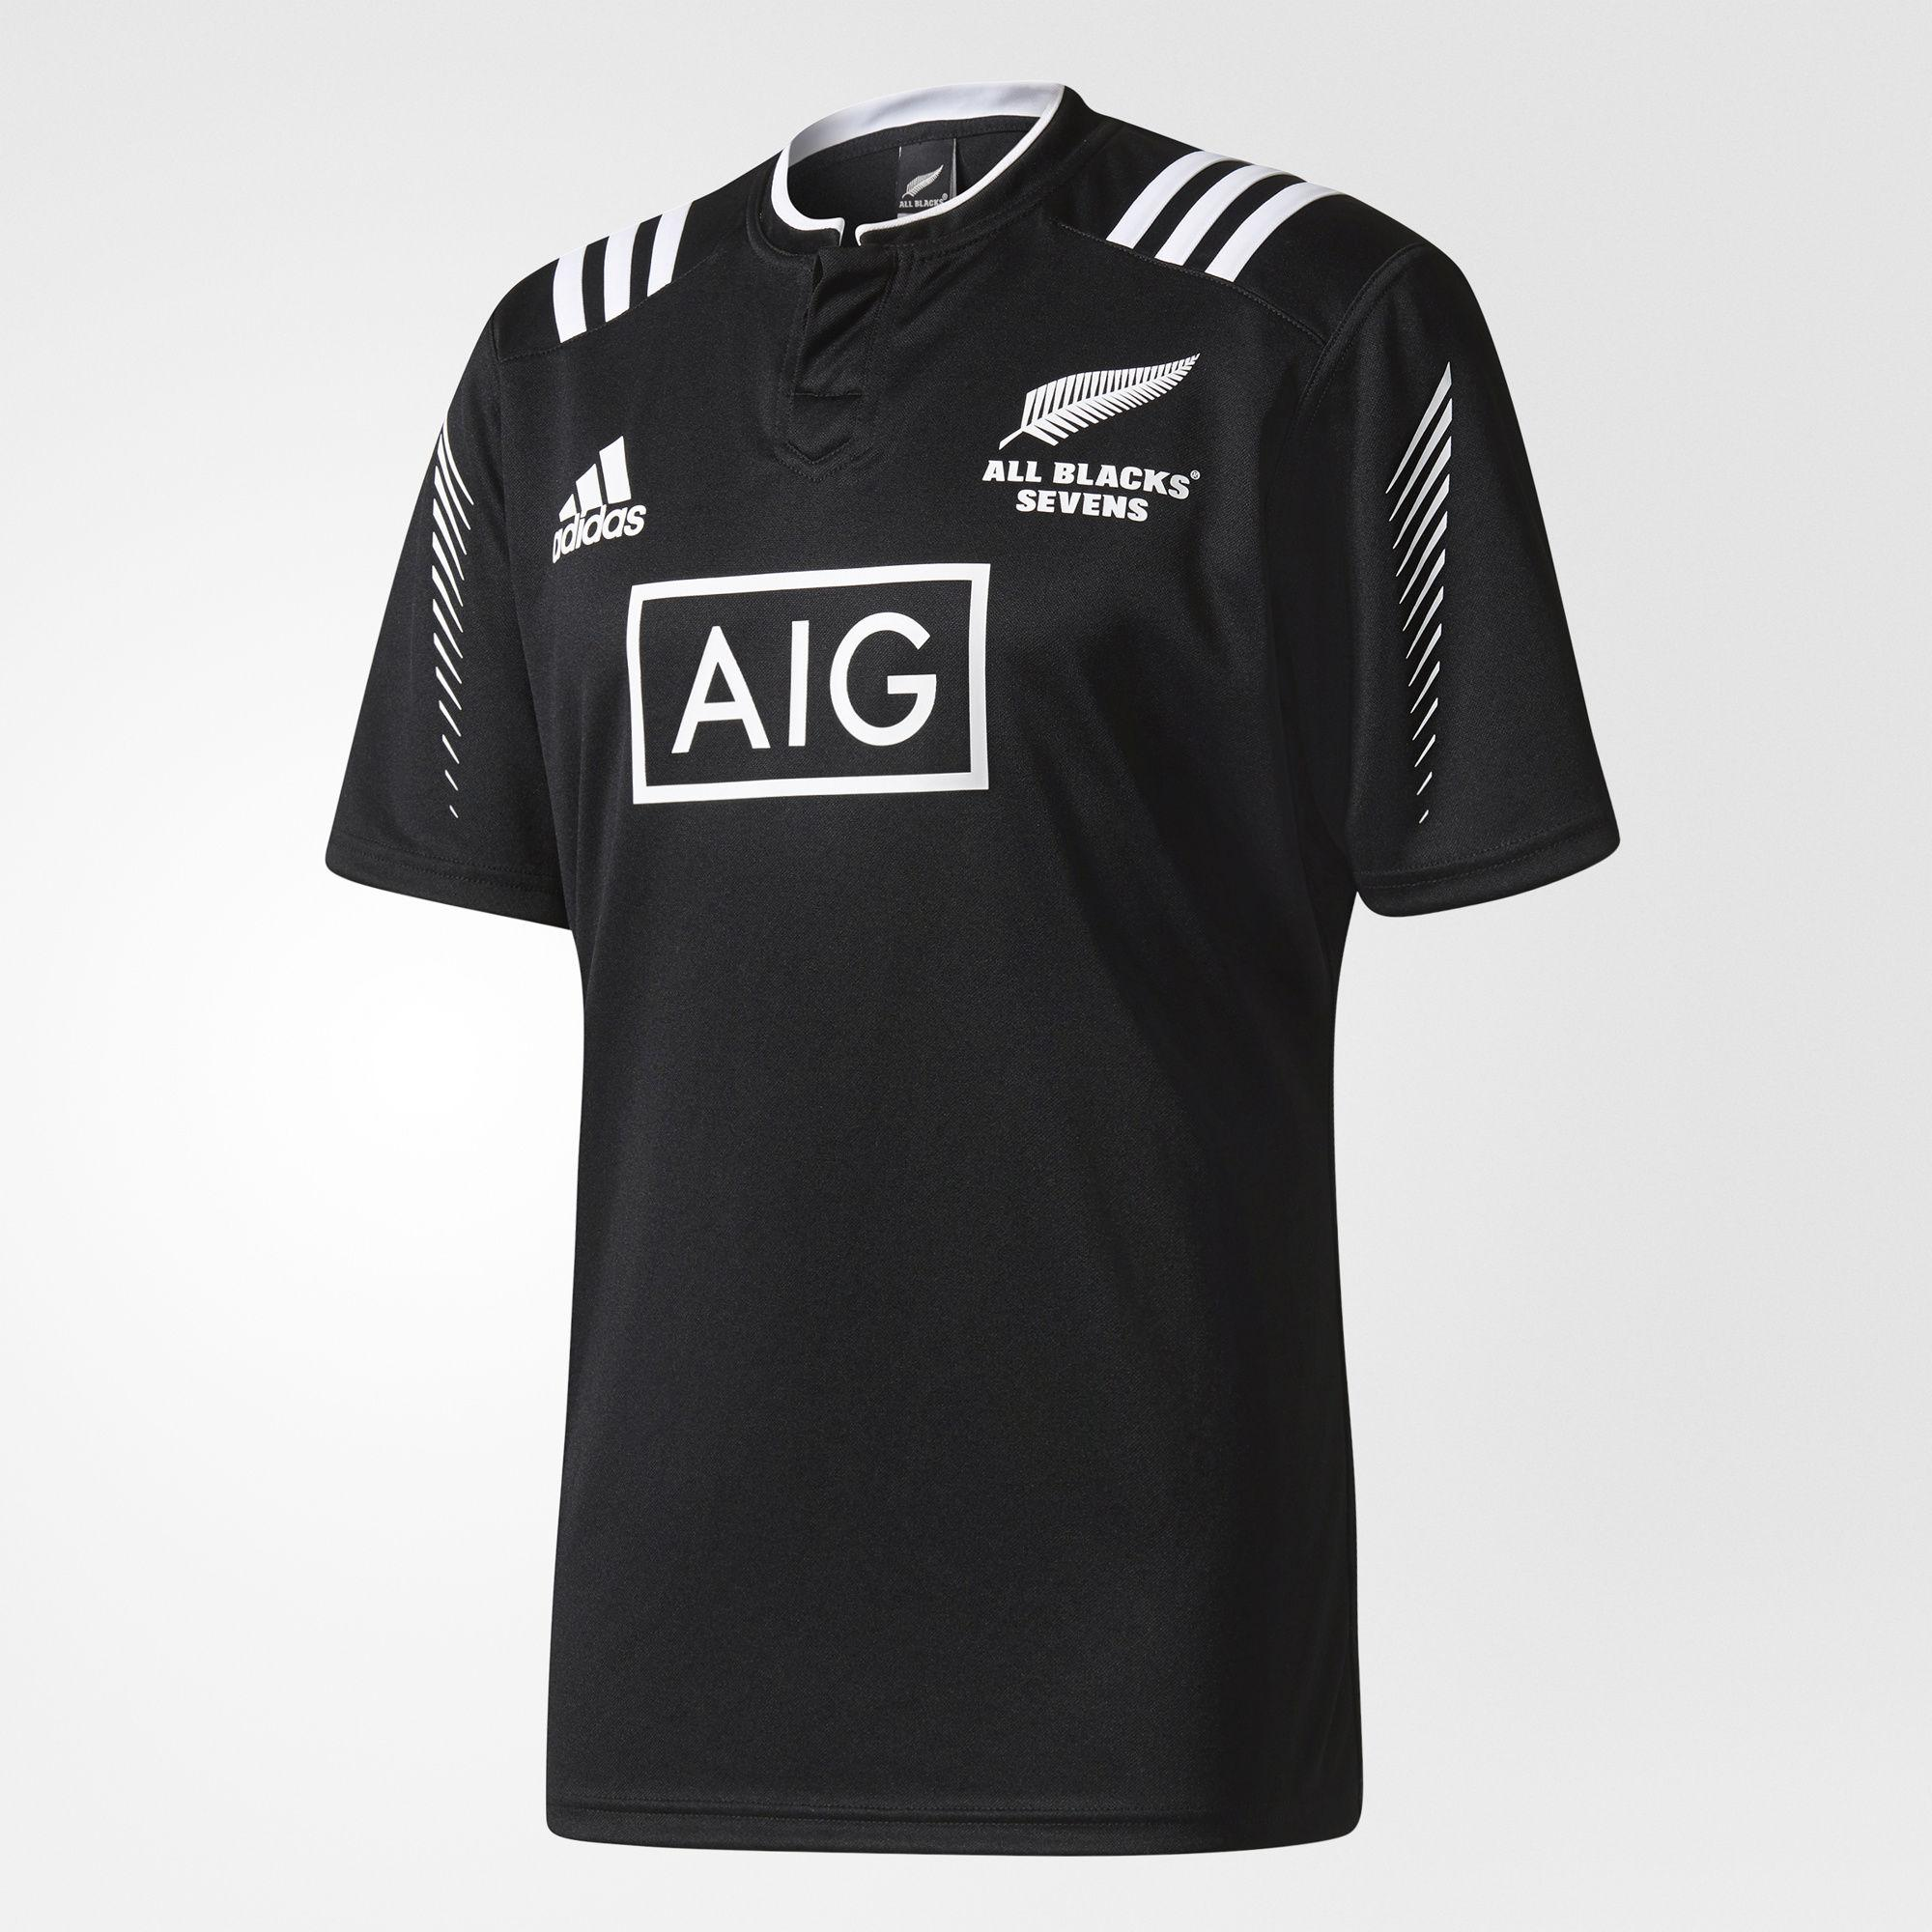teeshirt: (290, 51, 1622, 1925)
